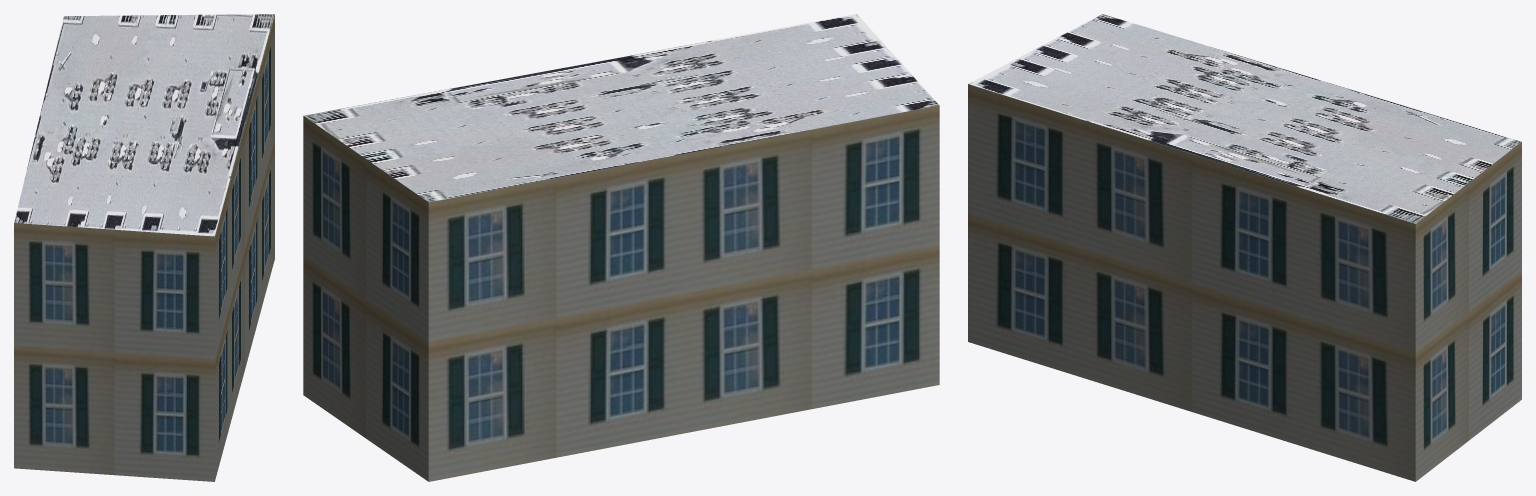
File: ResTex__3445.fbx
3 renders of one model, left to right at view 1: azimuth 30°, elevation 25°; view 2: azimuth 150°, elevation 25°; view 3: azimuth 270°, elevation 25°, orthographic. The views are drawn at different scales.
Visible parts, largest first — view 1: CityEngineMaterial_7_m, CityEngineMaterial_8_m; view 2: CityEngineMaterial_7_m, CityEngineMaterial_8_m; view 3: CityEngineMaterial_7_m, CityEngineMaterial_8_m.
Boxes of the visible parts, x1,y1,x2,y2 form: CityEngineMaterial_7_m: [14, 14, 274, 481]; CityEngineMaterial_8_m: [14, 14, 274, 236]; CityEngineMaterial_7_m: [303, 105, 939, 481]; CityEngineMaterial_8_m: [304, 14, 938, 202]; CityEngineMaterial_7_m: [968, 84, 1521, 481]; CityEngineMaterial_8_m: [969, 14, 1521, 223].
Bounding box in the file's own units: 10.48 × 6 × 11.67.
2 materials, 2 textured.
